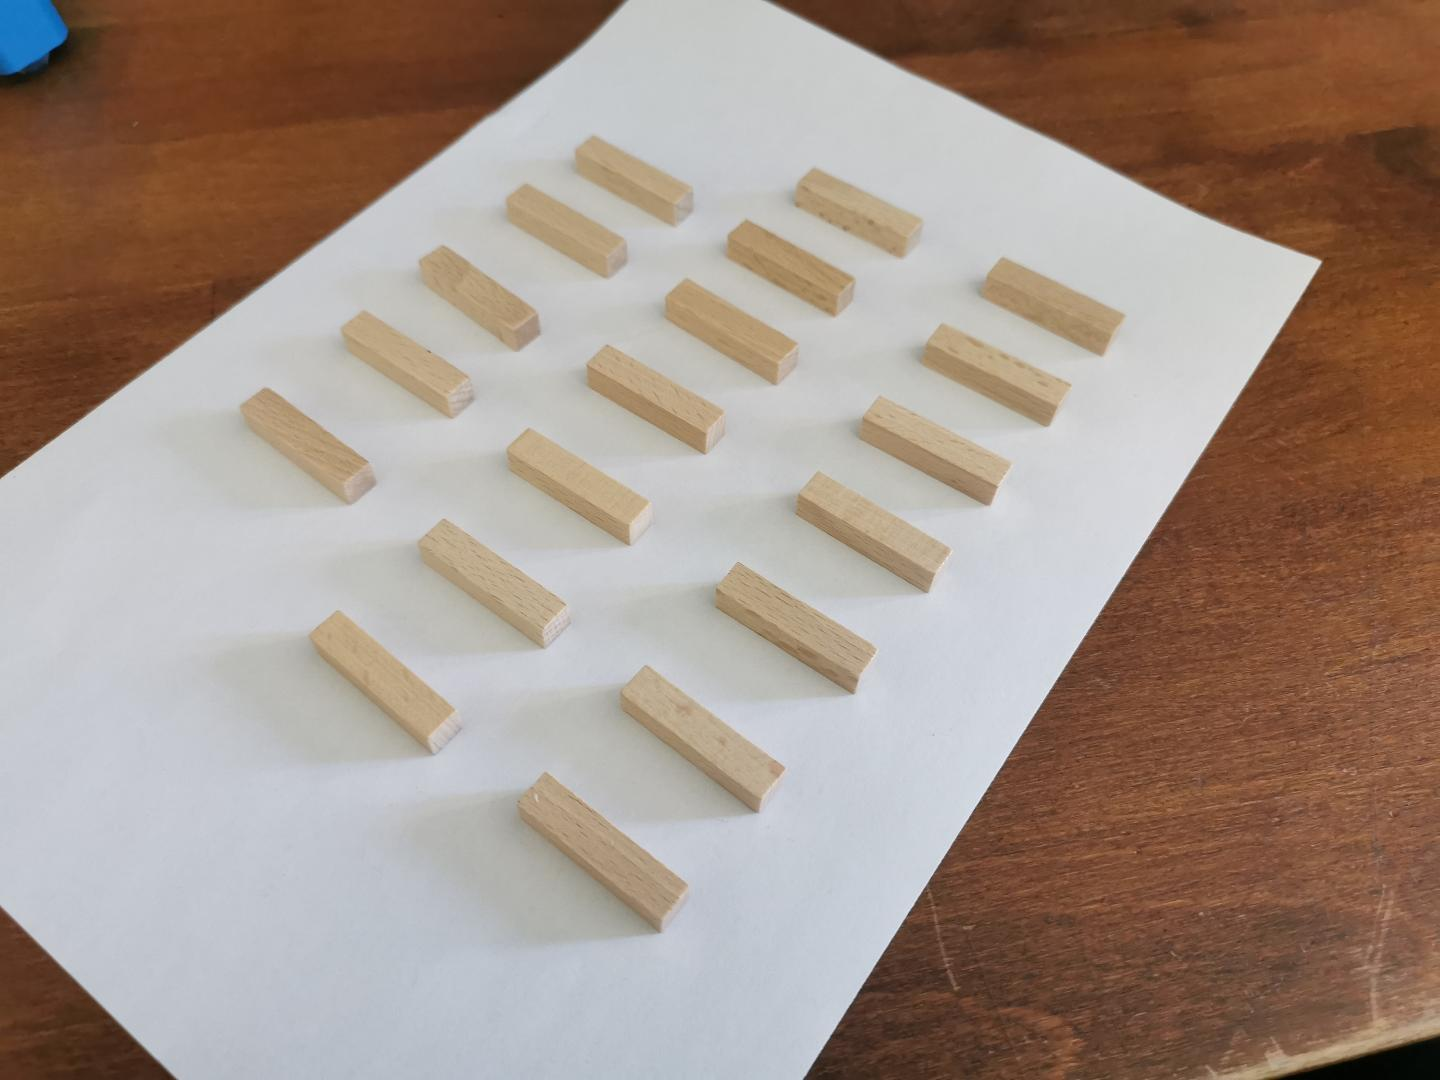jenga: (517, 774, 689, 931), (621, 667, 785, 812), (310, 610, 461, 753), (714, 563, 878, 692), (420, 521, 571, 647), (796, 472, 950, 591), (506, 430, 652, 546), (861, 397, 1013, 504), (242, 388, 376, 504), (923, 323, 1071, 424), (587, 346, 726, 453), (667, 278, 798, 386), (982, 259, 1125, 354), (344, 312, 473, 416), (420, 247, 540, 352), (728, 219, 855, 315), (506, 186, 627, 278), (796, 169, 923, 256), (576, 135, 695, 225)
